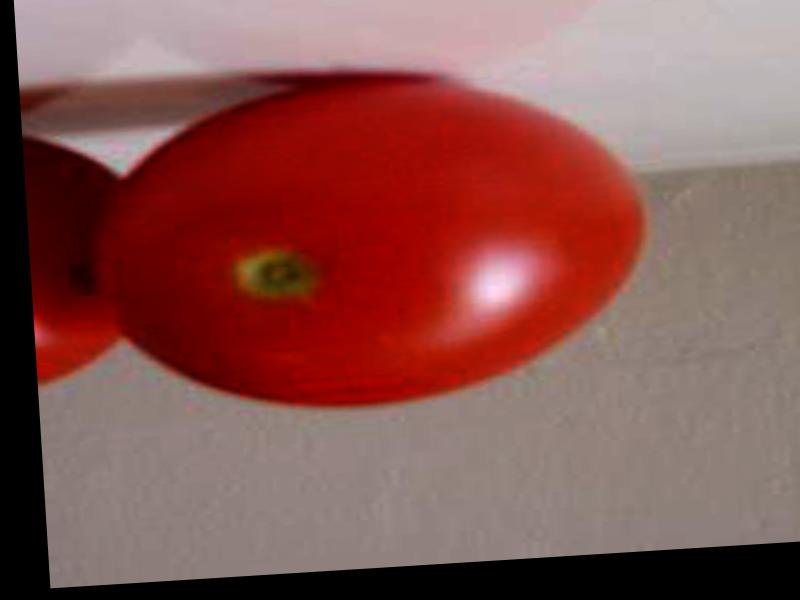Tomato: (91, 65, 654, 420)
